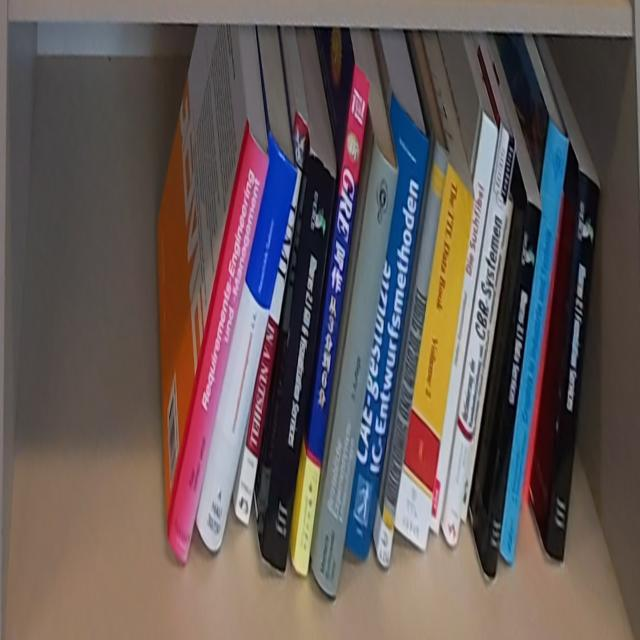Book Spine: (168, 138, 271, 568), (196, 128, 298, 557), (344, 89, 430, 561), (310, 142, 399, 594), (294, 66, 371, 579), (439, 120, 518, 550), (233, 104, 310, 530), (262, 153, 336, 581), (395, 159, 474, 558), (500, 116, 570, 565), (376, 140, 448, 567), (431, 112, 499, 538), (544, 172, 602, 565), (484, 198, 542, 583), (461, 195, 513, 523)
